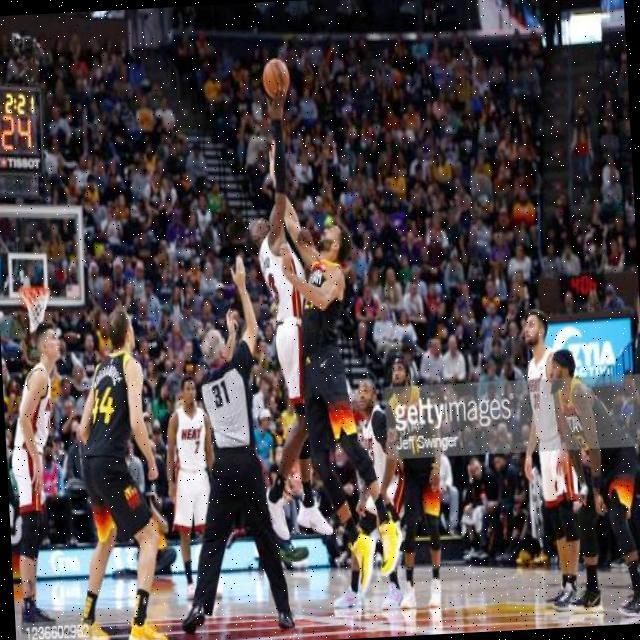ball: (262, 57, 292, 100)
hoop: (20, 285, 50, 297)
